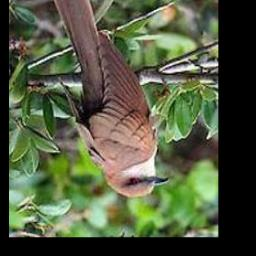Cuckoo: (50, 0, 169, 198)
